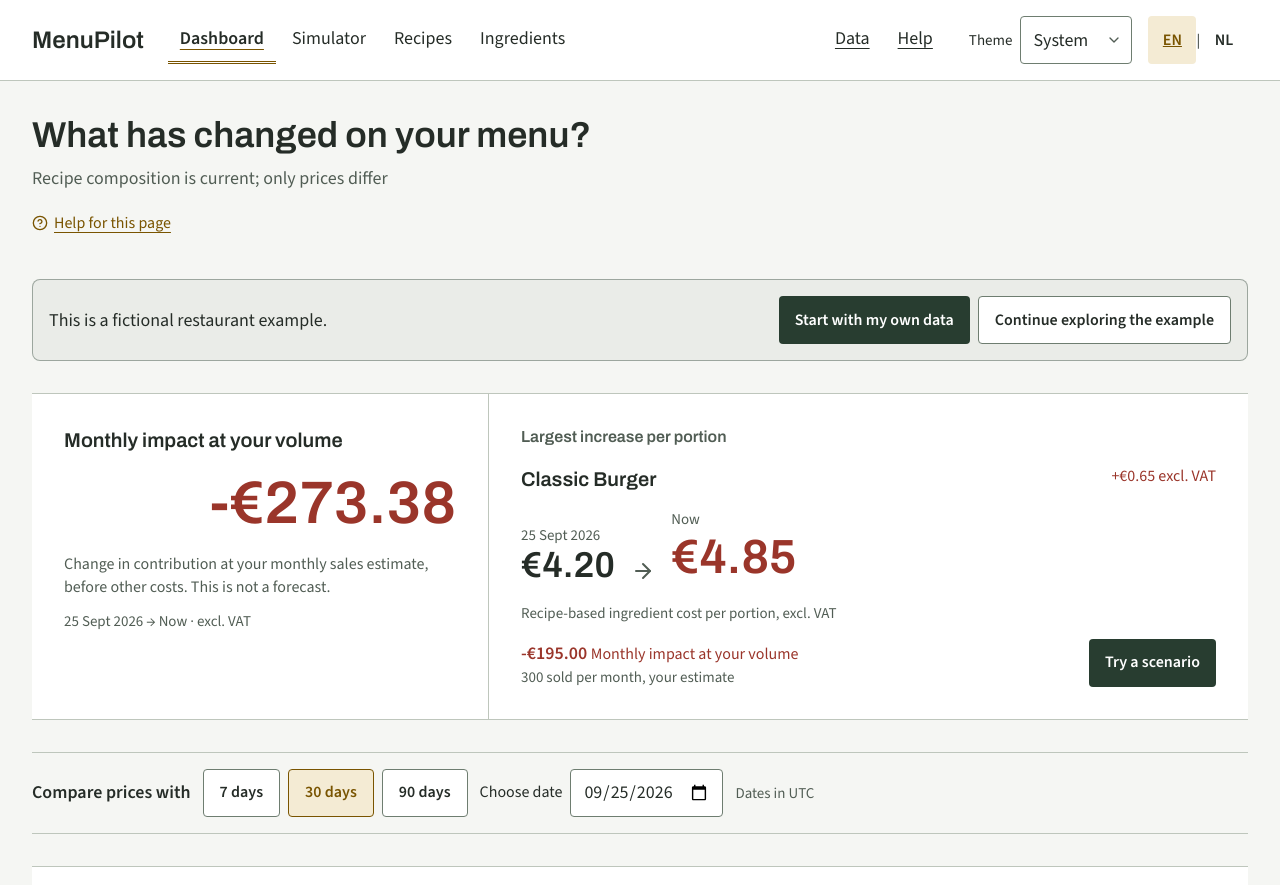
it: routing in the app › menu links navigate and mark the current page
The width and height of the screenshot is (1280, 885).
Click the link to "#/ingredients".
click(523, 38)  # box [480,26,565,50]
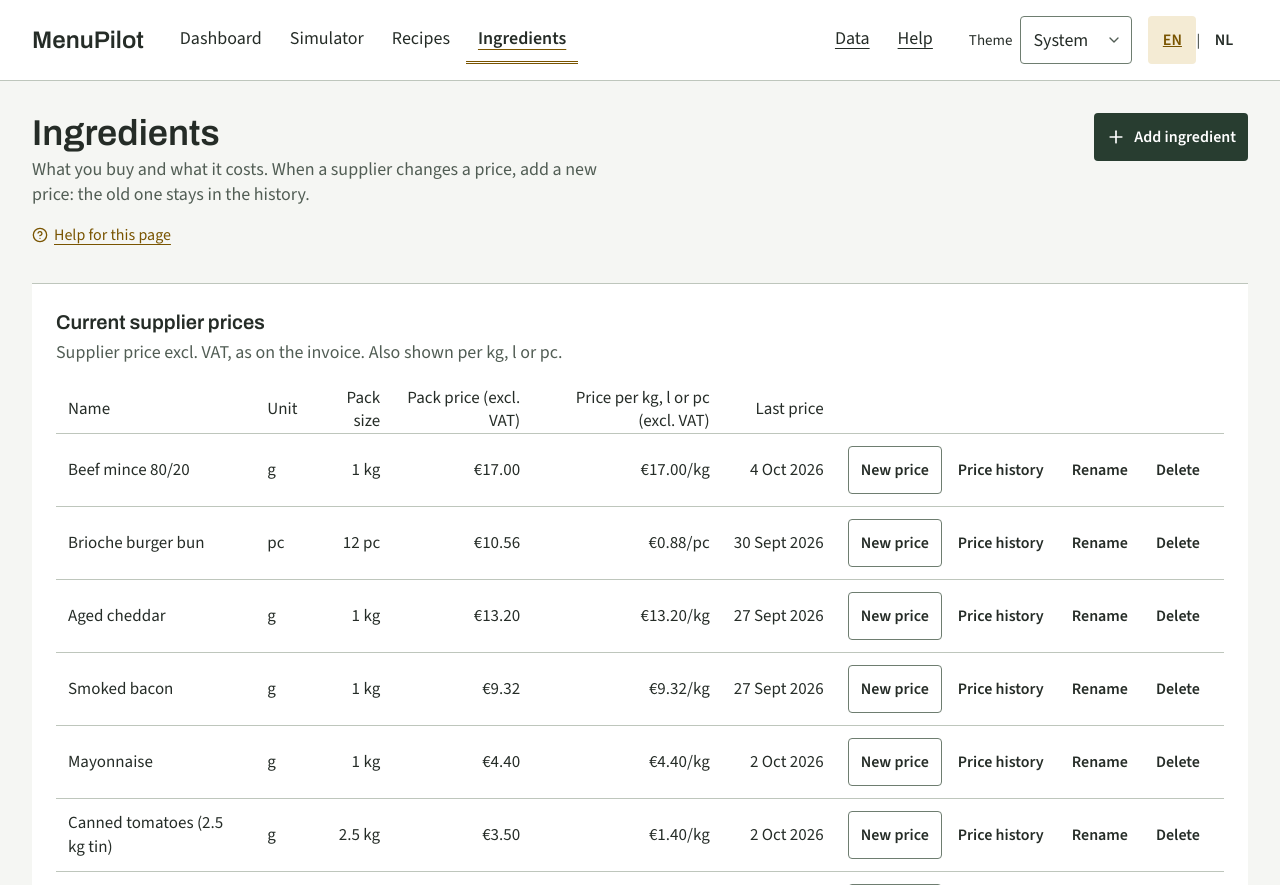
Now the heading "Ingredients" is shown, box [32,113,220,153]
